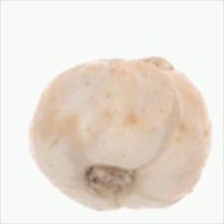L3: (130, 53, 191, 81)
L4: (30, 55, 211, 212)
